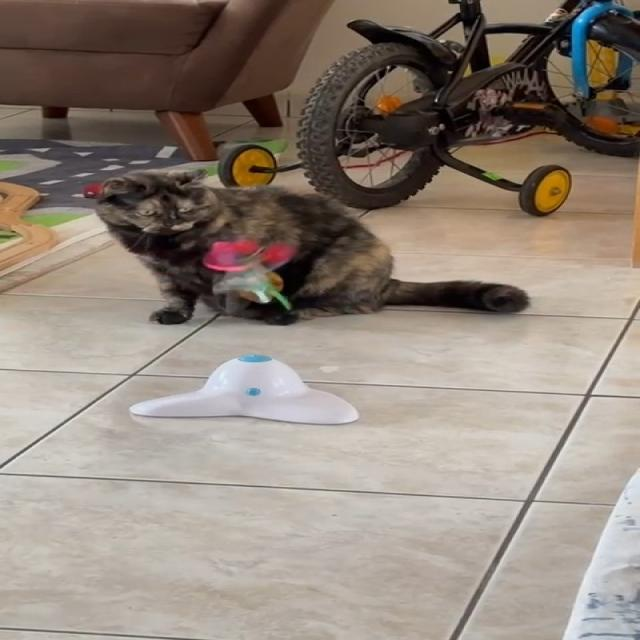authorized: (92, 167, 531, 326)
